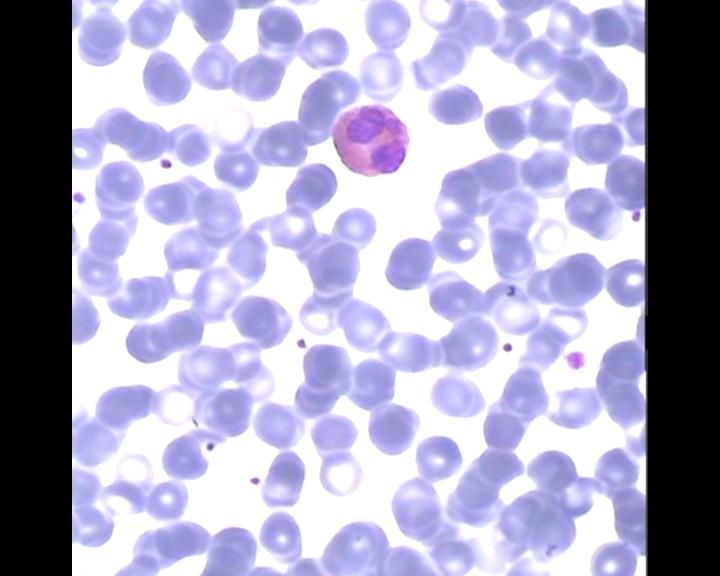eosi: (327, 98, 415, 179)
